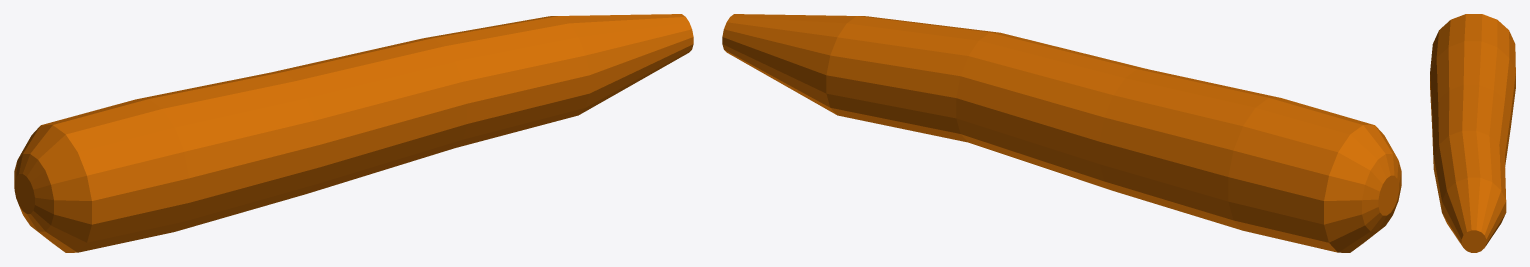
Rendered from marchew.fbx.
3 views of the same model, side by side, from view 1: azimuth 30°, elevation 25°; view 2: azimuth 150°, elevation 25°; view 3: azimuth 270°, elevation 25° (orthographic). The views are drawn at different scales.
Visible parts, largest first — view 1: marchew; view 2: marchew; view 3: marchew.
Part boxes in pixels (x1=…): marchew: x1=14, y1=14, x2=693, y2=252; marchew: x1=722, y1=14, x2=1401, y2=252; marchew: x1=1430, y1=14, x2=1515, y2=252.
Size of the model in its own units: 673 by 121 by 121.
